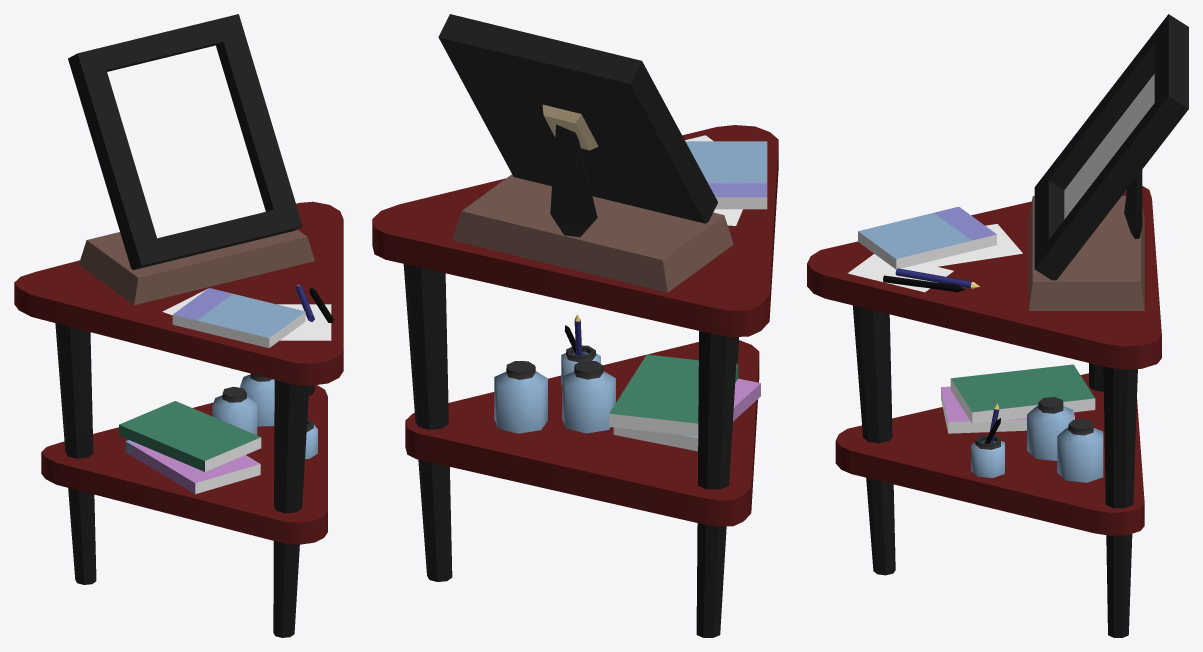
Rendered from Meta_Game_Tattoo_Design_Upgrade_Station.fbx.
The picture shows the model from 3 angles, left to right: view 1: azimuth 30°, elevation 25°; view 2: azimuth 150°, elevation 25°; view 3: azimuth 270°, elevation 25°; orthographic projection. The views are drawn at different scales.
Visible parts, largest first — view 1: Tattoo Design Station; view 2: Tattoo Design Station; view 3: Tattoo Design Station.
Boxes of the visible parts, x1,y1,x2,y2 form: Tattoo Design Station: (14,14,343,637); Tattoo Design Station: (372,14,778,637); Tattoo Design Station: (807,14,1188,637).
Size of the model in its own units: 110 by 163 by 108.
